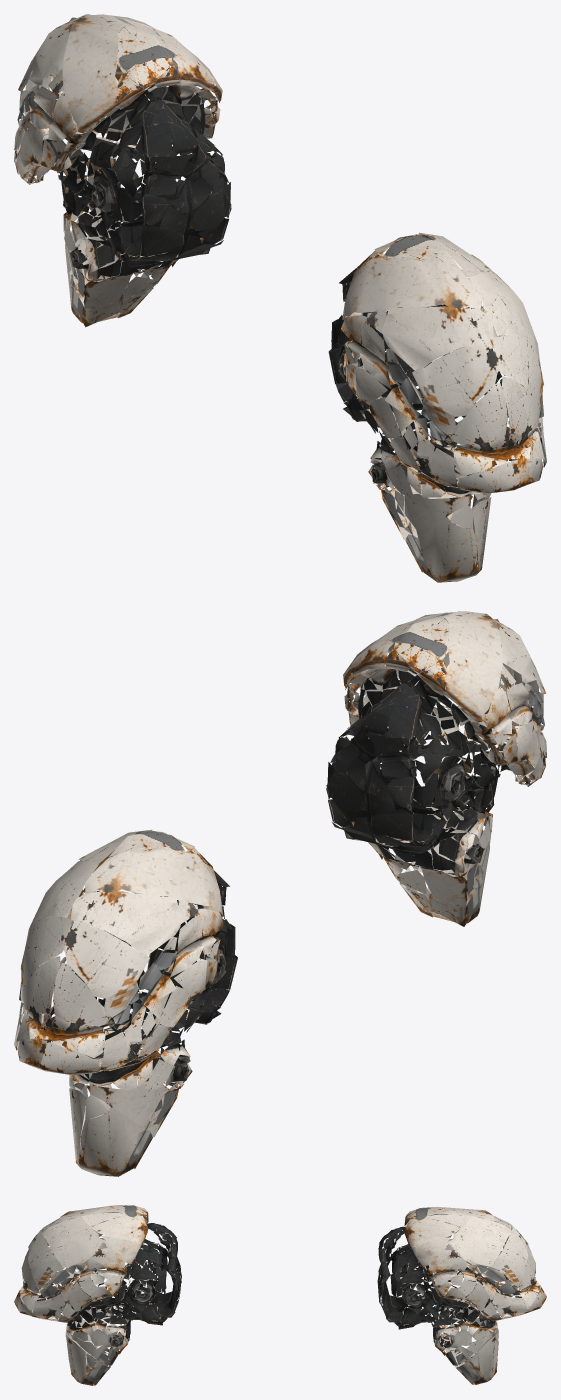
File: Shoulders_Common_01_Optimized_v2.glb
3 views of the same model, one above another, from view 1: azimuth 30°, elevation 25°; view 2: azimuth 150°, elevation 25°; view 3: azimuth 270°, elevation 25° (orthographic). The views are drawn at different scales.
Parts seen in each view (by area): view 1: EXPORT_Shoulder_R, EXPORT_Shoulder_L; view 2: EXPORT_Shoulder_L, EXPORT_Shoulder_R; view 3: EXPORT_Shoulder_L, EXPORT_Shoulder_R.
Part boxes in pixels (x1,y1,x2,y2): EXPORT_Shoulder_R: (328,232,546,582); EXPORT_Shoulder_L: (14,14,231,327); EXPORT_Shoulder_L: (14,829,237,1176); EXPORT_Shoulder_R: (326,611,546,926); EXPORT_Shoulder_L: (377,1206,546,1384); EXPORT_Shoulder_R: (14,1205,181,1385).
Bounding box in the file's own units: 0.1123 × 0.2039 × 0.5667.
Materials: 1 (1 with a texture image).
